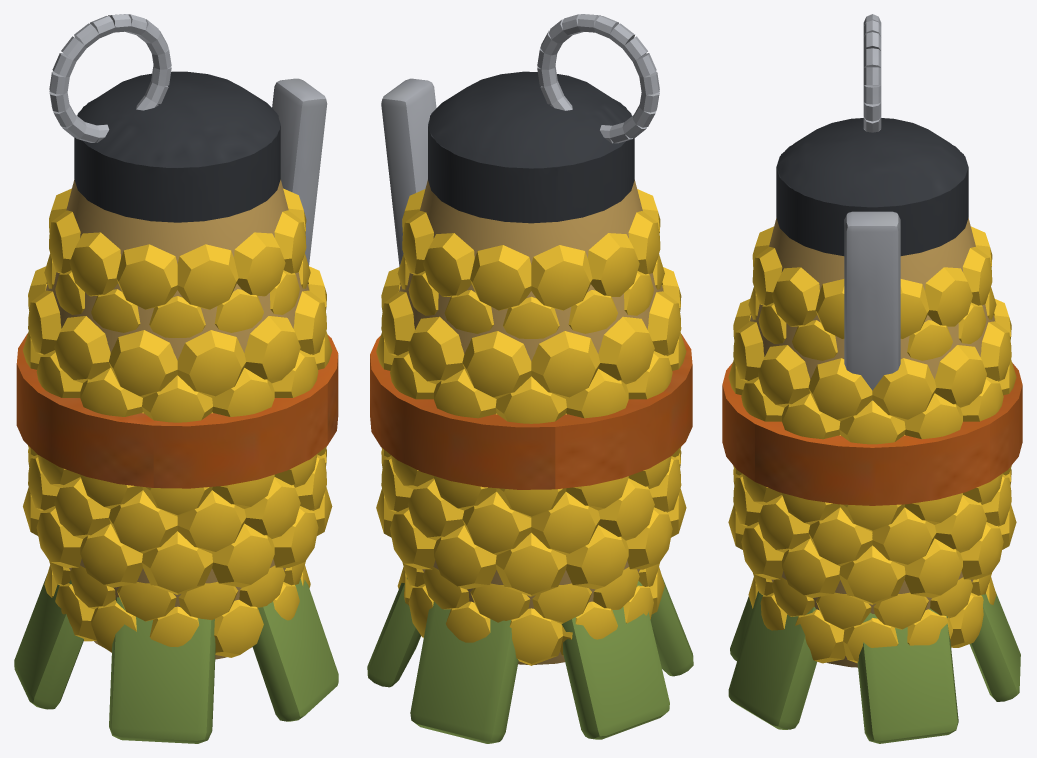
Rendered from popper.glb.
3 views of the same model, side by side, from view 1: azimuth 30°, elevation 25°; view 2: azimuth 150°, elevation 25°; view 3: azimuth 270°, elevation 25° (orthographic). The views are drawn at different scales.
Parts seen in each view (by area): view 1: Popper; view 2: Popper; view 3: Popper.
Boxes of the visible parts, <box> form: Popper: <box>14,14,338,743</box>; Popper: <box>367,14,693,743</box>; Popper: <box>722,14,1022,743</box>.
Bounding box in the file's own units: 0.0759 × 0.1751 × 0.075.
6 materials, 3 textured.
